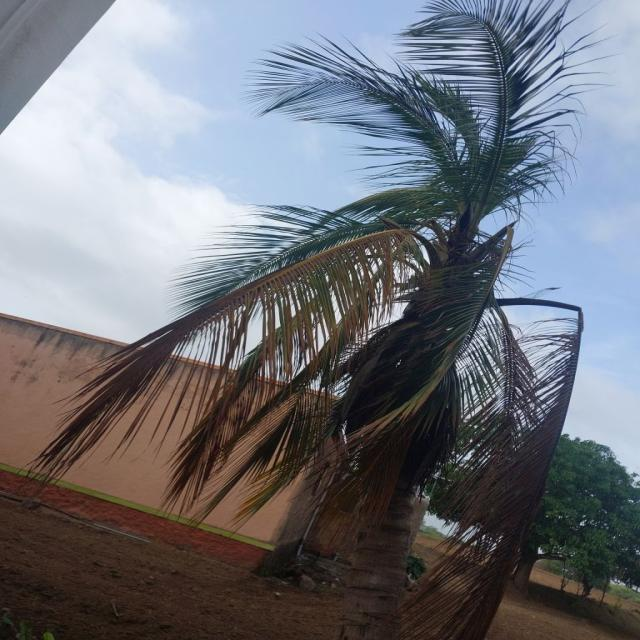bud root dropping: (49, 10, 595, 634)
